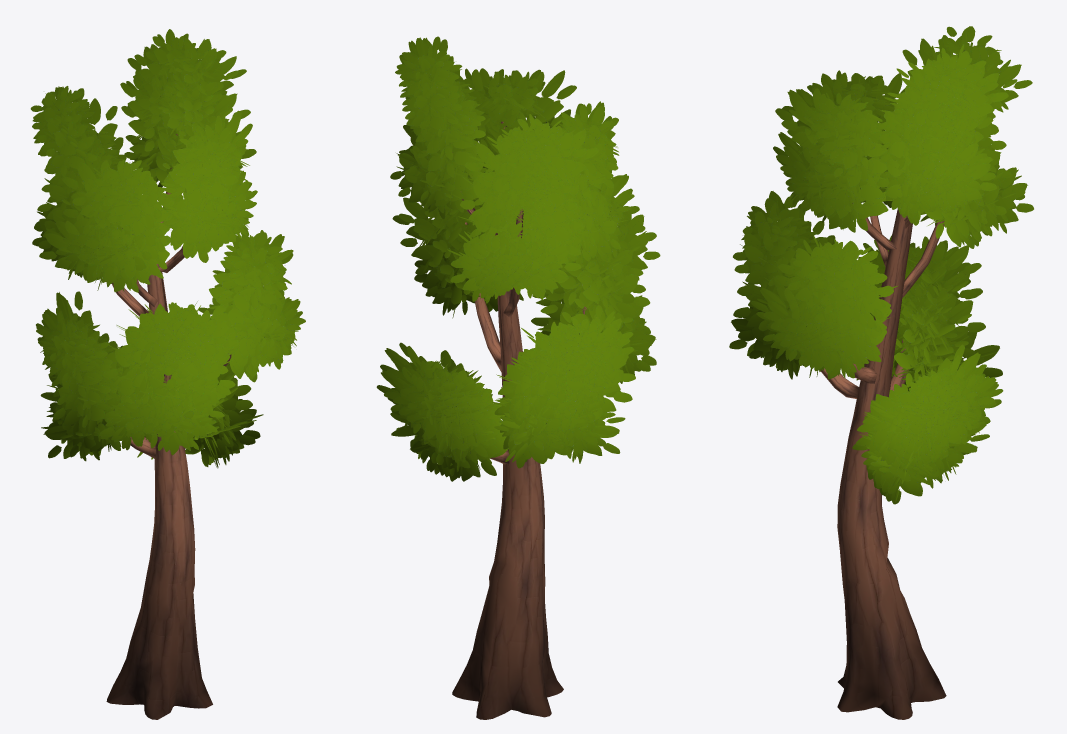
File: common-tree-3.glb
3 views of the same model, side by side, from view 1: azimuth 30°, elevation 25°; view 2: azimuth 150°, elevation 25°; view 3: azimuth 270°, elevation 25° (orthographic). The views are drawn at different scales.
Visible parts, largest first — view 1: CommonTree_3; view 2: CommonTree_3; view 3: CommonTree_3.
Boxes of the visible parts, left/top/right/bottom form: CommonTree_3: left=30, top=29, right=305, bottom=719; CommonTree_3: left=376, top=36, right=660, bottom=719; CommonTree_3: left=729, top=26, right=1033, bottom=719.
Size of the model in its own units: 4.06 by 9.43 by 4.24.
2 materials, 2 textured.
